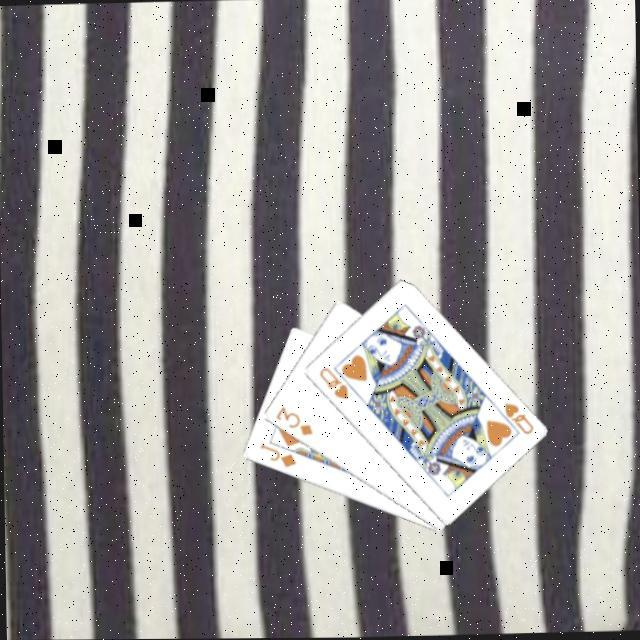3D: (272, 402, 317, 438)
JD: (256, 439, 300, 471)
QH: (490, 398, 537, 438), (316, 363, 352, 402)
